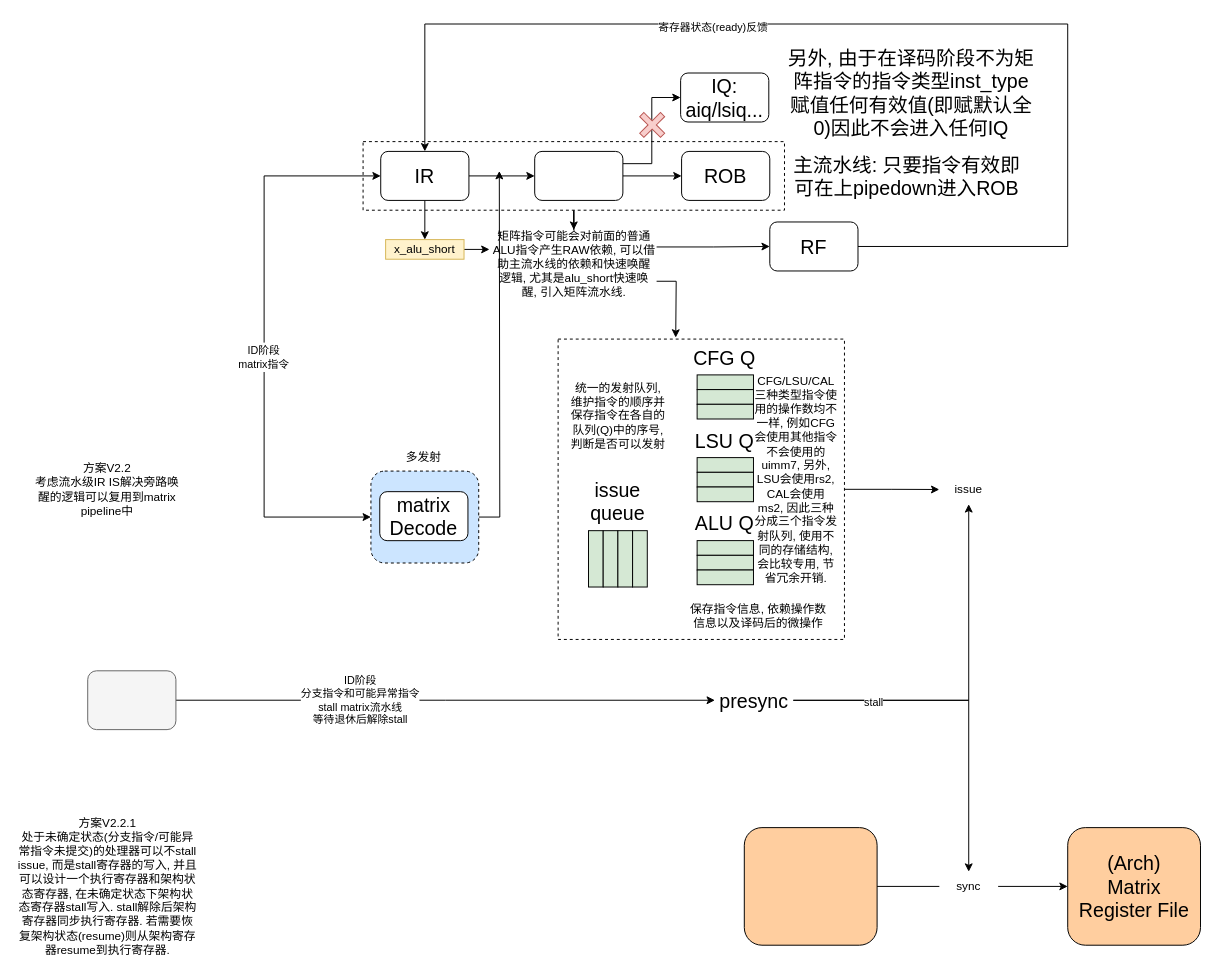
This 1218x977 diagram has some shape labels left out. Each missing label, with the centre of its shape:
"(Exe) Matrix Register File" belongs at point 810,886.
"IS" belongs at point 578,175.
"主处理器" belongs at point 131,700.
